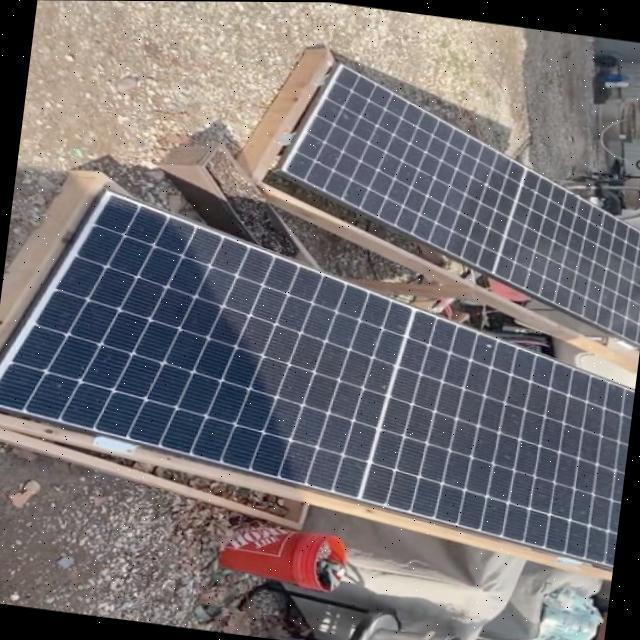Normal Solar Panel: (0, 184, 640, 565), (263, 56, 640, 340)
